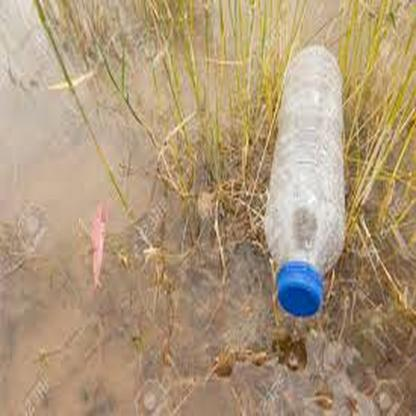plastic bottle: (264, 46, 347, 314)
